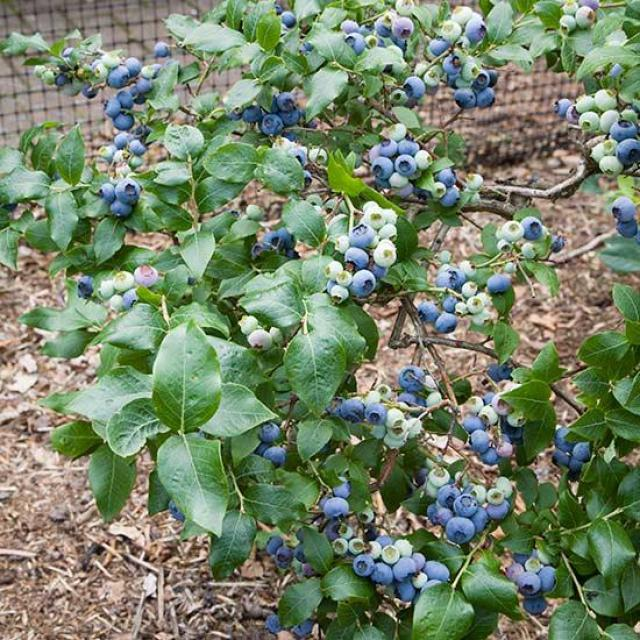BlueBerry - v1: (444, 514, 478, 548), (396, 363, 428, 393), (132, 261, 162, 292), (112, 176, 143, 205), (322, 496, 354, 524), (348, 268, 377, 298), (612, 137, 640, 168), (490, 388, 518, 418), (608, 196, 639, 223), (484, 271, 516, 297), (109, 106, 138, 134), (347, 222, 376, 250), (340, 397, 369, 425), (392, 554, 420, 583), (390, 14, 420, 41), (246, 326, 274, 354), (404, 74, 432, 102), (342, 245, 371, 272), (262, 443, 292, 469), (606, 120, 639, 143), (463, 15, 490, 43), (452, 492, 479, 520), (166, 497, 191, 527), (552, 424, 576, 455), (114, 85, 141, 112), (592, 86, 619, 113), (518, 214, 544, 242), (434, 310, 460, 338), (362, 402, 390, 428), (257, 420, 283, 447), (369, 560, 396, 586), (573, 4, 598, 32), (416, 300, 444, 325), (393, 151, 419, 177), (342, 30, 368, 56), (257, 113, 284, 138), (375, 220, 400, 247), (424, 558, 452, 582), (535, 564, 559, 592), (372, 243, 398, 268), (467, 429, 492, 455), (351, 552, 376, 578), (262, 610, 287, 636), (363, 207, 390, 231), (599, 155, 627, 178), (498, 220, 526, 243), (336, 16, 368, 36), (76, 271, 96, 303), (482, 500, 511, 522), (436, 165, 461, 190), (113, 267, 138, 292), (392, 578, 417, 603), (454, 85, 479, 110), (475, 85, 500, 110), (94, 179, 118, 205), (292, 615, 318, 639), (463, 413, 490, 436), (370, 156, 398, 178), (394, 390, 422, 412), (235, 313, 260, 337), (570, 440, 595, 464), (439, 482, 463, 507), (450, 4, 476, 27), (107, 64, 133, 87), (238, 104, 266, 125), (371, 15, 395, 39), (323, 394, 347, 418), (476, 404, 500, 428), (575, 94, 599, 118), (615, 216, 640, 239), (428, 34, 453, 57), (491, 476, 514, 501), (99, 95, 122, 120), (598, 108, 620, 134), (580, 109, 602, 135), (386, 121, 412, 143), (413, 146, 435, 172), (332, 472, 354, 498), (426, 466, 454, 486), (439, 184, 462, 208), (261, 229, 284, 253), (446, 266, 469, 290), (517, 571, 540, 595), (324, 257, 346, 282), (327, 284, 353, 305), (381, 542, 402, 568), (120, 55, 143, 78), (440, 55, 463, 78), (307, 146, 331, 168), (119, 288, 143, 310), (439, 21, 463, 43), (274, 546, 296, 570), (278, 88, 299, 113), (106, 200, 135, 218), (385, 171, 411, 191), (114, 130, 137, 152), (458, 277, 481, 299), (462, 394, 485, 416), (384, 406, 406, 429), (504, 561, 527, 583), (554, 94, 575, 118), (279, 223, 298, 249), (378, 138, 400, 160), (462, 168, 484, 190), (264, 533, 286, 555), (472, 70, 494, 92), (80, 80, 102, 102), (398, 134, 419, 157), (98, 277, 119, 300), (246, 202, 266, 226), (332, 233, 352, 257), (149, 40, 173, 60), (520, 242, 542, 263), (484, 486, 505, 508), (392, 538, 413, 560), (522, 555, 544, 576), (288, 144, 308, 167), (460, 59, 480, 82), (364, 538, 383, 562), (616, 103, 640, 122), (299, 169, 319, 191), (277, 9, 299, 29), (355, 505, 375, 527), (326, 522, 346, 544), (547, 232, 565, 256), (133, 77, 157, 95), (458, 257, 478, 278), (107, 292, 127, 313), (390, 85, 411, 105), (250, 240, 269, 262), (471, 482, 489, 505), (293, 542, 310, 566), (430, 180, 450, 200), (440, 294, 460, 314), (466, 294, 486, 314), (374, 382, 394, 402), (507, 410, 527, 430), (480, 446, 500, 466), (332, 536, 352, 556), (422, 68, 442, 88), (564, 104, 583, 125), (127, 138, 149, 156), (494, 440, 516, 458), (558, 14, 578, 33), (552, 448, 572, 467), (266, 326, 288, 343), (336, 268, 354, 288), (412, 549, 427, 573), (280, 110, 302, 126), (384, 426, 407, 441), (348, 536, 365, 556), (411, 570, 428, 590), (147, 62, 165, 80), (495, 239, 513, 256), (376, 532, 393, 550), (252, 443, 274, 456), (339, 524, 355, 540), (482, 389, 496, 407), (56, 74, 74, 88)
